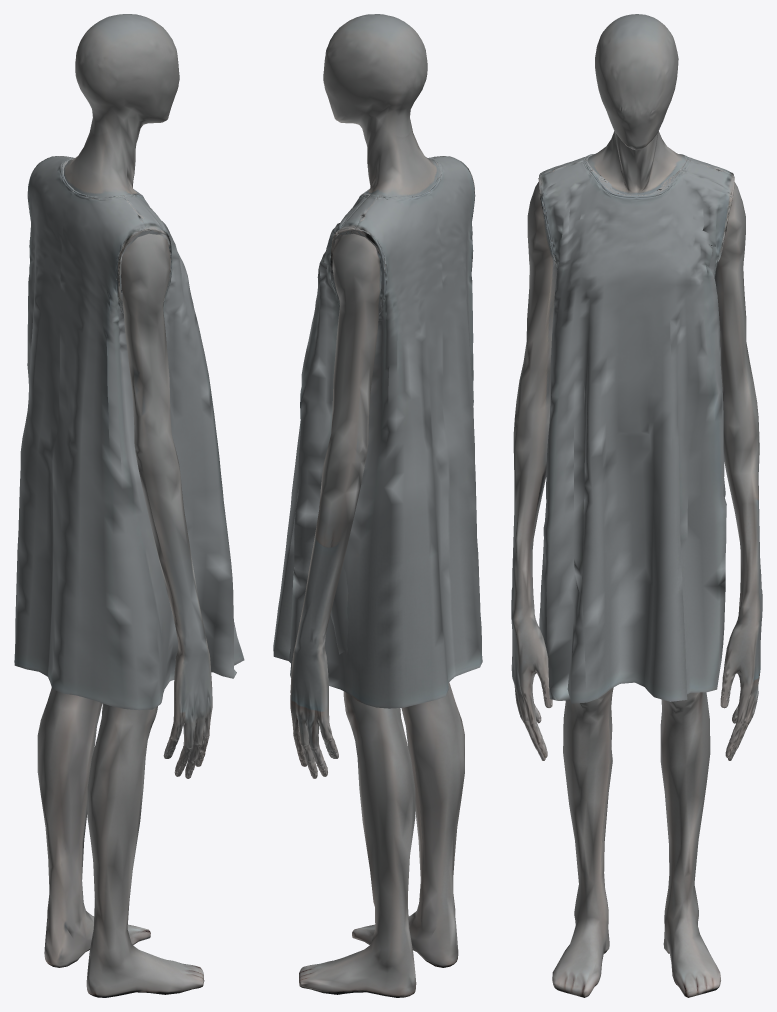
3 views of the same model, side by side, from view 1: azimuth 30°, elevation 25°; view 2: azimuth 150°, elevation 25°; view 3: azimuth 270°, elevation 25° (orthographic).
Parts seen in each view (by area): view 1: Model; view 2: Model; view 3: Model.
Part boxes in pixels (box(x1,y1,x2,y2)): Model: box(14, 14, 244, 997); Model: box(273, 14, 482, 997); Model: box(511, 14, 762, 997).
Bounding box in the file's own units: 0.1948 × 0.9995 × 0.2393.
Materials: 1 (1 with a texture image).
